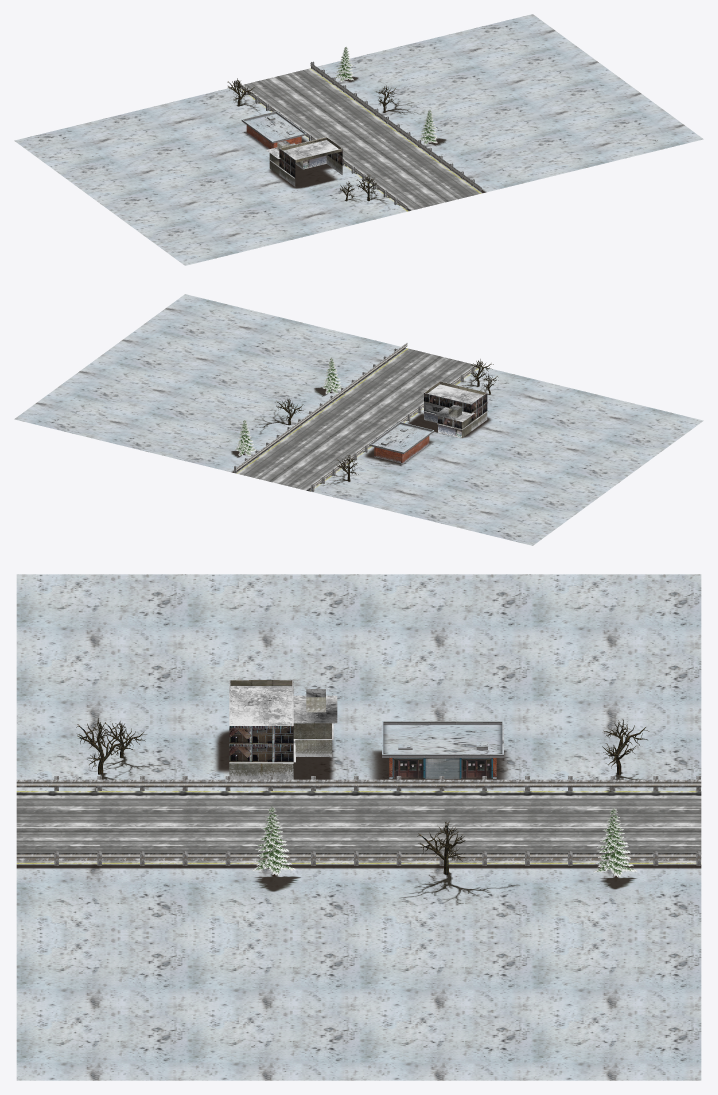
3 views of the same model, one above another, from view 1: azimuth 30°, elevation 25°; view 2: azimuth 150°, elevation 25°; view 3: azimuth 270°, elevation 25° (orthographic). The views are drawn at different scales.
Parts seen in each view (by area): view 1: scene5, road013, Box045, Box046, Box047, Box048; view 2: scene5, road013, Box045, Box046, Box048, Box047; view 3: scene5, road013, Box045, Box046, Box047, Box048.
Boxes of the visible parts, x1,y1,x2,y2 form: scene5: (14,14,703,265); road013: (234,61,481,211); Box045: (266,137,343,186); Box046: (241,111,306,149); Box047: (227,78,397,201); Box048: (335,47,437,144); scene5: (14,294,703,545); road013: (234,343,481,491); Box045: (423,381,488,438); Box046: (369,422,434,463); Box048: (234,357,342,456); Box047: (275,359,498,481); scene5: (16,574,701,1080); road013: (16,776,701,865); Box045: (229,679,337,779); Box046: (382,721,503,778); Box047: (76,718,649,874); Box048: (252,806,637,877).
Size of the model in its own units: 140 by 9.02 by 80.
